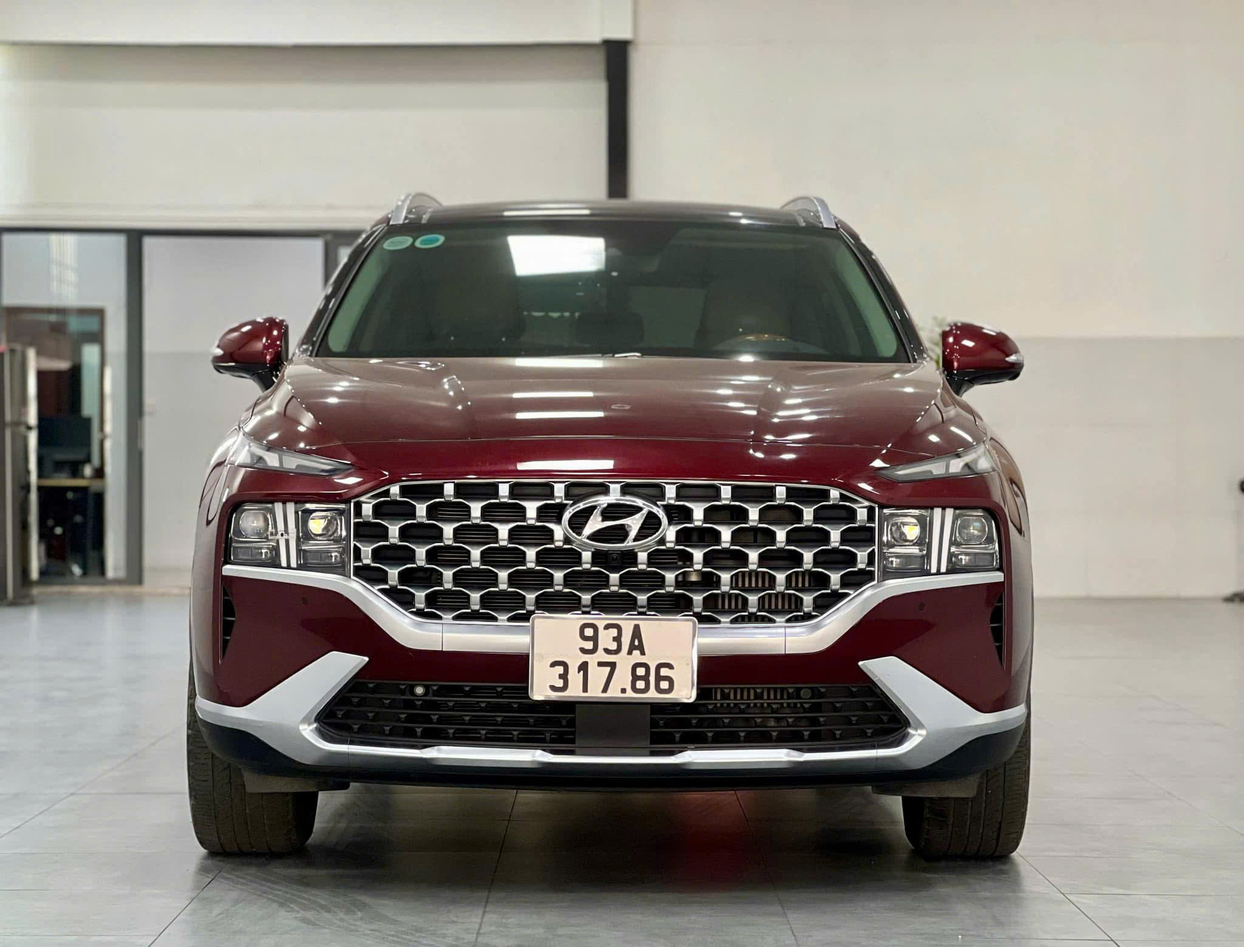Bien-so: (535, 614, 701, 700)
